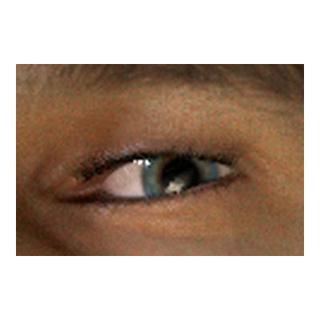pupil: (162, 158, 199, 195)
